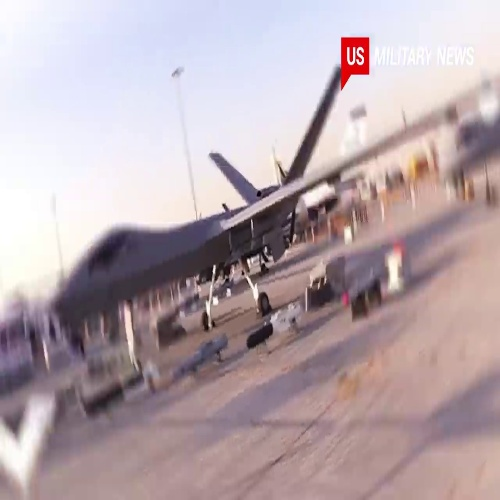uav: (58, 64, 376, 330)
